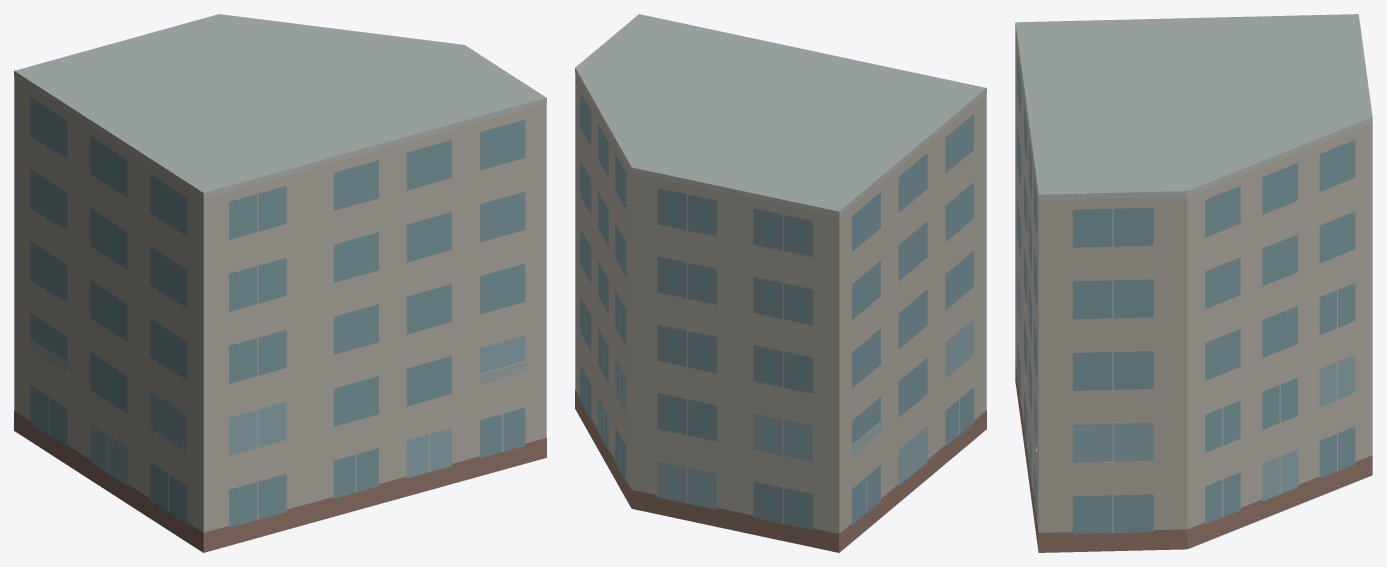
Rendered from residential-9db316f7-cab7-4db7-b092-1442cc2ad181.glb.
The picture shows the model from 3 angles, left to right: view 1: azimuth 30°, elevation 25°; view 2: azimuth 150°, elevation 25°; view 3: azimuth 270°, elevation 25°; orthographic projection. The views are drawn at different scales.
Parts seen in each view (by area): view 1: residential-9db316f7-cab7-4db7-b092-1442cc2ad181.tmp; view 2: residential-9db316f7-cab7-4db7-b092-1442cc2ad181.tmp; view 3: residential-9db316f7-cab7-4db7-b092-1442cc2ad181.tmp.
Part boxes in pixels (bbox=[...]): residential-9db316f7-cab7-4db7-b092-1442cc2ad181.tmp: bbox=[14, 14, 546, 552]; residential-9db316f7-cab7-4db7-b092-1442cc2ad181.tmp: bbox=[575, 14, 986, 552]; residential-9db316f7-cab7-4db7-b092-1442cc2ad181.tmp: bbox=[1015, 14, 1372, 552].
Size of the model in its own units: 16.5 by 15.25 by 13.79.
